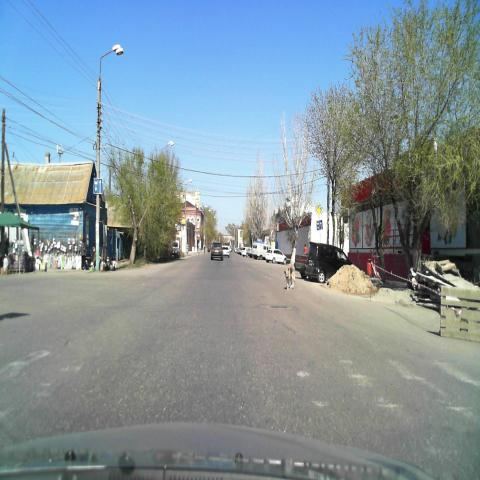5_11: (93, 177, 103, 194)
